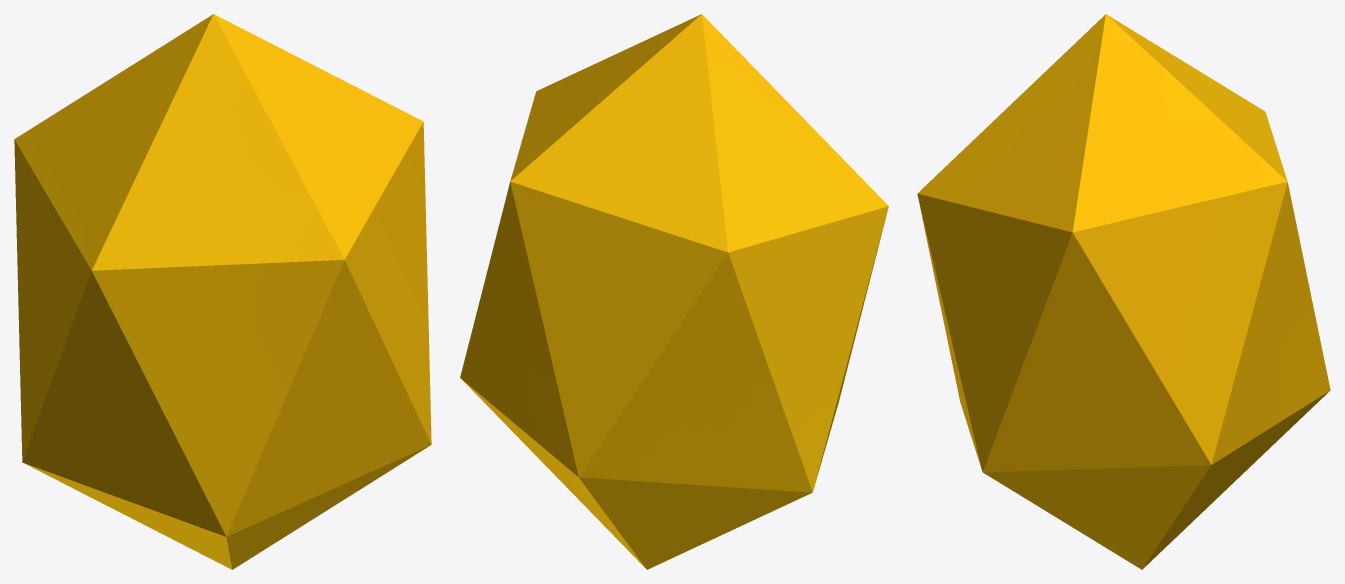
Rendered from corn0.glb.
The picture shows the model from 3 angles, left to right: view 1: azimuth 30°, elevation 25°; view 2: azimuth 150°, elevation 25°; view 3: azimuth 270°, elevation 25°; orthographic projection. The views are drawn at different scales.
Visible parts, largest first — view 1: Corn0; view 2: Corn0; view 3: Corn0.
Part boxes in pixels (left/top/right/bottom): Corn0: left=14, top=14, right=431, bottom=569; Corn0: left=460, top=14, right=888, bottom=569; Corn0: left=917, top=14, right=1330, bottom=569.
Size of the model in its own units: 0.1081 by 0.1678 by 0.1167.
1 material, 1 textured.
